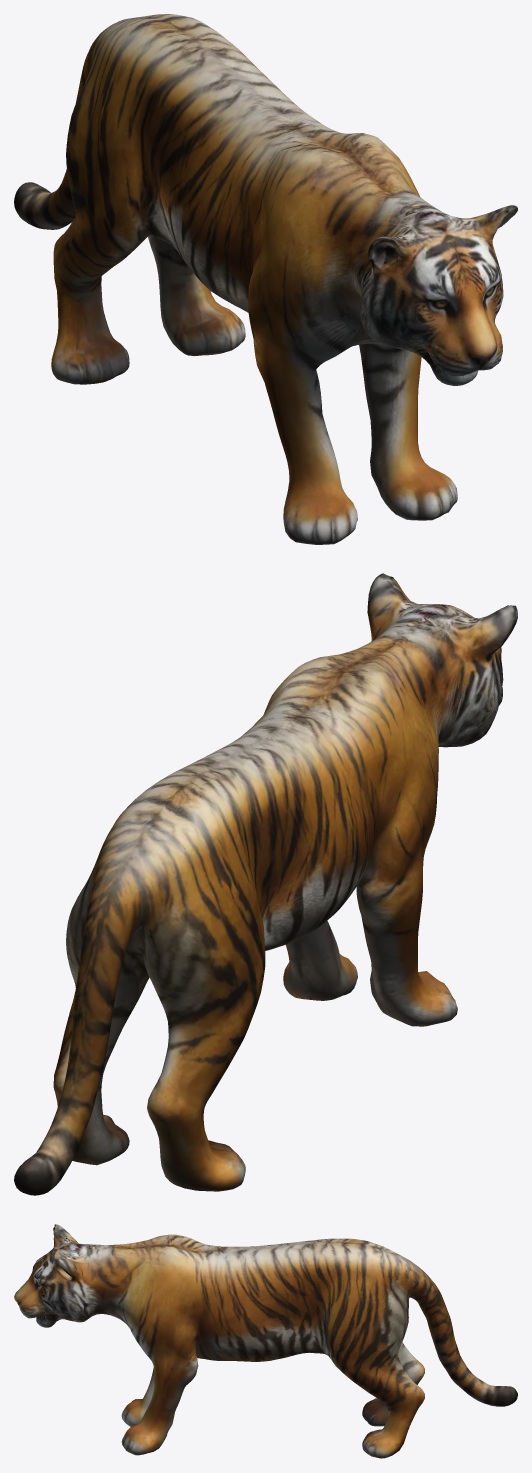
The model's file is tiger.glb.
3 views of the same model, one above another, from view 1: azimuth 30°, elevation 25°; view 2: azimuth 150°, elevation 25°; view 3: azimuth 270°, elevation 25° (orthographic). The views are drawn at different scales.
Visible parts, largest first — view 1: Mesh1_Mesh1.007; view 2: Mesh1_Mesh1.007; view 3: Mesh1_Mesh1.007.
Part boxes in pixels (bbox=[...]): Mesh1_Mesh1.007: bbox=[14, 14, 517, 544]; Mesh1_Mesh1.007: bbox=[14, 573, 517, 1195]; Mesh1_Mesh1.007: bbox=[14, 1224, 517, 1458].
Bounding box in the file's own units: 0.4658 × 0.8521 × 2.
1 material, 1 textured.
